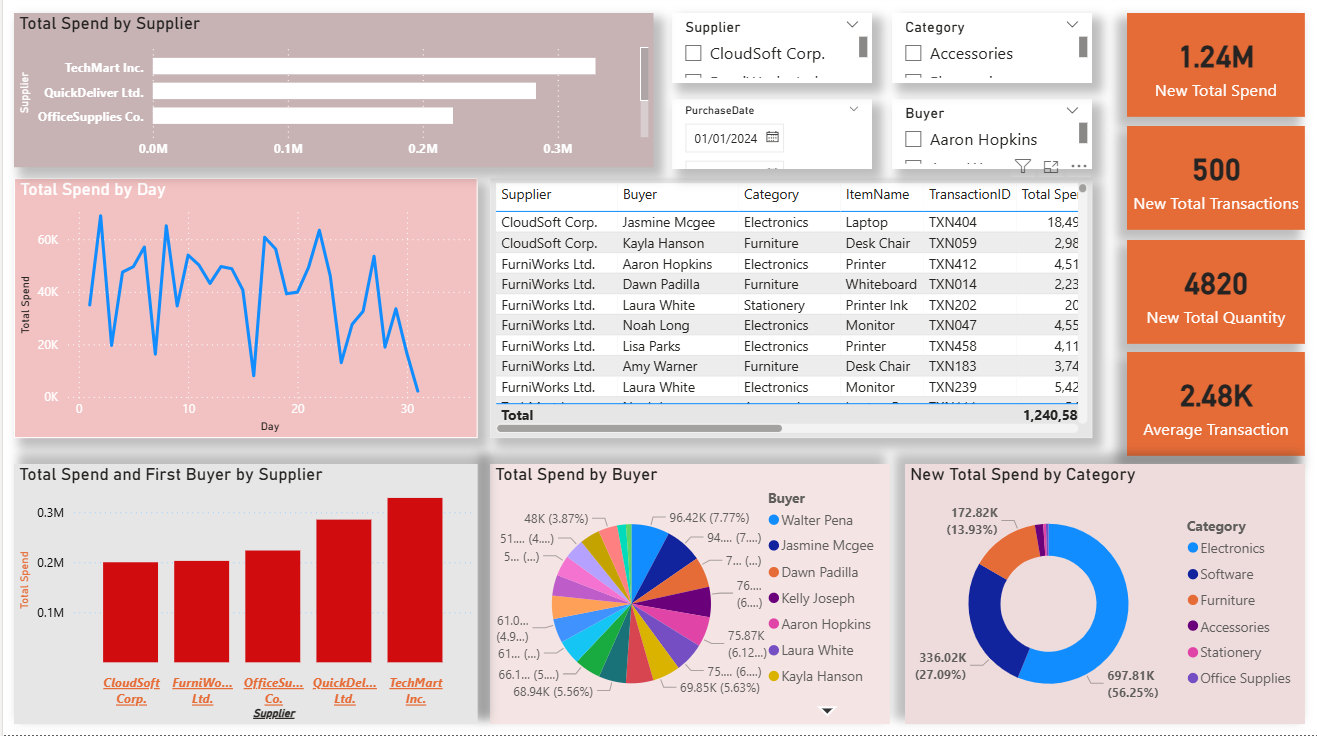

This screenshot's page, from the dashboard's own definition file:
{"tool":"powerbi","page":{"name":"Page 1","canvas":[1280,720],"ordinal":5},"visuals":[{"type":"card","fields":{"Values":["spend_analysis_dataset.New Total Spend"]},"box":[1093.3,17.5,173.1,101.2],"z":0},{"type":"card","fields":{"Values":["spend_analysis_dataset.New Total Transactions"]},"box":[1093.3,127.4,173.1,101.2],"z":1},{"type":"card","fields":{"Values":["spend_analysis_dataset.New Total Quantity"]},"box":[1093.3,238.3,173.1,101.2],"z":2},{"type":"card","fields":{"Values":["spend_analysis_dataset.Average Transaction"]},"box":[1093.3,347.2,173.1,101.2],"z":3},{"type":"donutChart","fields":{"Category":["spend_analysis_dataset.Category"],"Y":["spend_analysis_dataset.New Total Spend"]},"box":[877.3,456.2,389.1,252.9],"z":4},{"type":"pieChart","fields":{"Category":["spend_analysis_dataset.Buyer"],"Y":["spend_analysis_dataset.Total Spend"]},"box":[473.7,456.2,389.1,252.9],"z":5},{"type":"clusteredColumnChart","fields":{"Category":["spend_analysis_dataset.Supplier","spend_analysis_dataset.Category"],"Y":["spend_analysis_dataset.Total Spend"]},"box":[10.7,456.2,451.3,252.9],"z":6},{"type":"lineChart","fields":{"Y":["spend_analysis_dataset.Total Spend"],"Category":["spend_analysis_dataset.PurchaseDate.Variation.Date Hierarchy.Year","spend_analysis_dataset.PurchaseDate.Variation.Date Hierarchy.Quarter","spend_analysis_dataset.PurchaseDate.Variation.Date Hierarchy.Month","spend_analysis_dataset.PurchaseDate.Variation.Date Hierarchy.Day"]},"box":[10.7,178,451.3,252.9],"z":8},{"type":"tableEx","fields":{"Values":["spend_analysis_dataset.Supplier","spend_analysis_dataset.Buyer","spend_analysis_dataset.Category","spend_analysis_dataset.ItemName","spend_analysis_dataset.TransactionID","spend_analysis_dataset.Total Spend","spend_analysis_dataset.PurchaseDate.Variation.Date Hierarchy.Year","spend_analysis_dataset.PurchaseDate.Variation.Date Hierarchy.Quarter","spend_analysis_dataset.PurchaseDate.Variation.Date Hierarchy.Month","spend_analysis_dataset.PurchaseDate.Variation.Date Hierarchy.Day","spend_analysis_dataset.Average Transaction","Sum(spend_analysis_dataset.Quantity)"]},"box":[473.7,178,585.5,252.9],"z":9},{"type":"slicer","fields":{"Values":["spend_analysis_dataset.Category"]},"box":[864.7,17.5,194.5,68.1],"z":10},{"type":"slicer","fields":{"Values":["spend_analysis_dataset.Buyer"]},"box":[864.7,101.2,194.5,68.1],"z":11},{"type":"slicer","fields":{"Values":["spend_analysis_dataset.Supplier"]},"box":[650.7,17.5,194.5,68.1],"z":12},{"type":"slicer","fields":{"Values":["spend_analysis_dataset.PurchaseDate"]},"box":[650.7,101.2,194.5,68.1],"z":13},{"type":"barChart","fields":{"Category":["spend_analysis_dataset.Supplier"],"Y":["spend_analysis_dataset.Total Spend"]},"box":[10.7,17.5,622.5,149.8],"z":14}]}

Visuals, with their boxes in screenshot pixels (x1, y1, x2, y2), scaled from the page's 1280x720 canvas onto the 1317x736 screenshot:
card - spend_analysis_dataset.New Total Spend: BBox(1125, 18, 1303, 121)
card - spend_analysis_dataset.New Total Transactions: BBox(1125, 130, 1303, 234)
card - spend_analysis_dataset.New Total Quantity: BBox(1125, 244, 1303, 347)
card - spend_analysis_dataset.Average Transaction: BBox(1125, 355, 1303, 458)
donutChart - spend_analysis_dataset.Category x spend_analysis_dataset.New Total Spend: BBox(903, 466, 1303, 725)
pieChart - spend_analysis_dataset.Buyer x spend_analysis_dataset.Total Spend: BBox(487, 466, 888, 725)
clusteredColumnChart - spend_analysis_dataset.Supplier x spend_analysis_dataset.Category: BBox(11, 466, 475, 725)
lineChart - spend_analysis_dataset.Total Spend x spend_analysis_dataset.PurchaseDate.Variation.Date Hierarchy.Year: BBox(11, 182, 475, 440)
tableEx - spend_analysis_dataset.Supplier x spend_analysis_dataset.Buyer: BBox(487, 182, 1090, 440)
slicer - spend_analysis_dataset.Category: BBox(890, 18, 1090, 88)
slicer - spend_analysis_dataset.Buyer: BBox(890, 103, 1090, 173)
slicer - spend_analysis_dataset.Supplier: BBox(670, 18, 870, 88)
slicer - spend_analysis_dataset.PurchaseDate: BBox(670, 103, 870, 173)
barChart - spend_analysis_dataset.Supplier x spend_analysis_dataset.Total Spend: BBox(11, 18, 652, 171)
